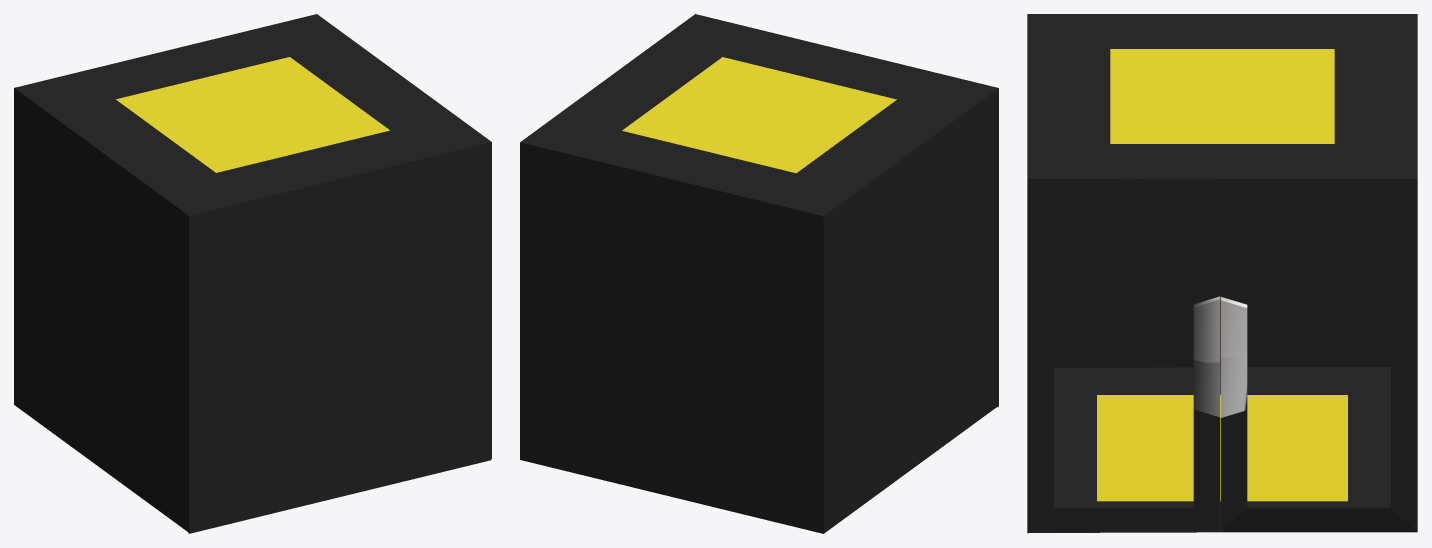
The model's file is Fiks2.fbx.
3 views of the same model, side by side, from view 1: azimuth 30°, elevation 25°; view 2: azimuth 150°, elevation 25°; view 3: azimuth 270°, elevation 25° (orthographic). The views are drawn at different scales.
Parts seen in each view (by area): view 1: Cube.032; view 2: Cube.032; view 3: Cube.032.
Boxes of the visible parts, bbox=[...] form: Cube.032: bbox=[14, 14, 491, 533]; Cube.032: bbox=[520, 14, 998, 533]; Cube.032: bbox=[1027, 14, 1417, 533].
Bounding box in the file's own units: 623 × 613 × 610.
